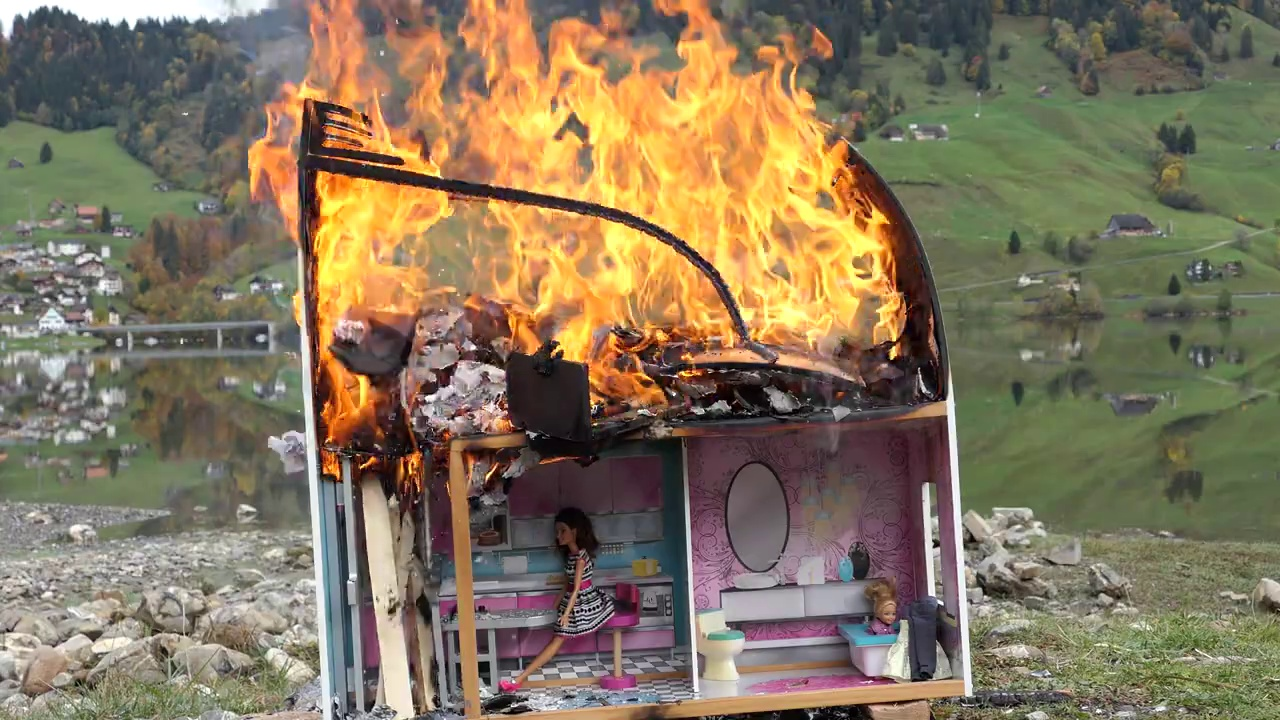flame: (252, 1, 945, 487)
